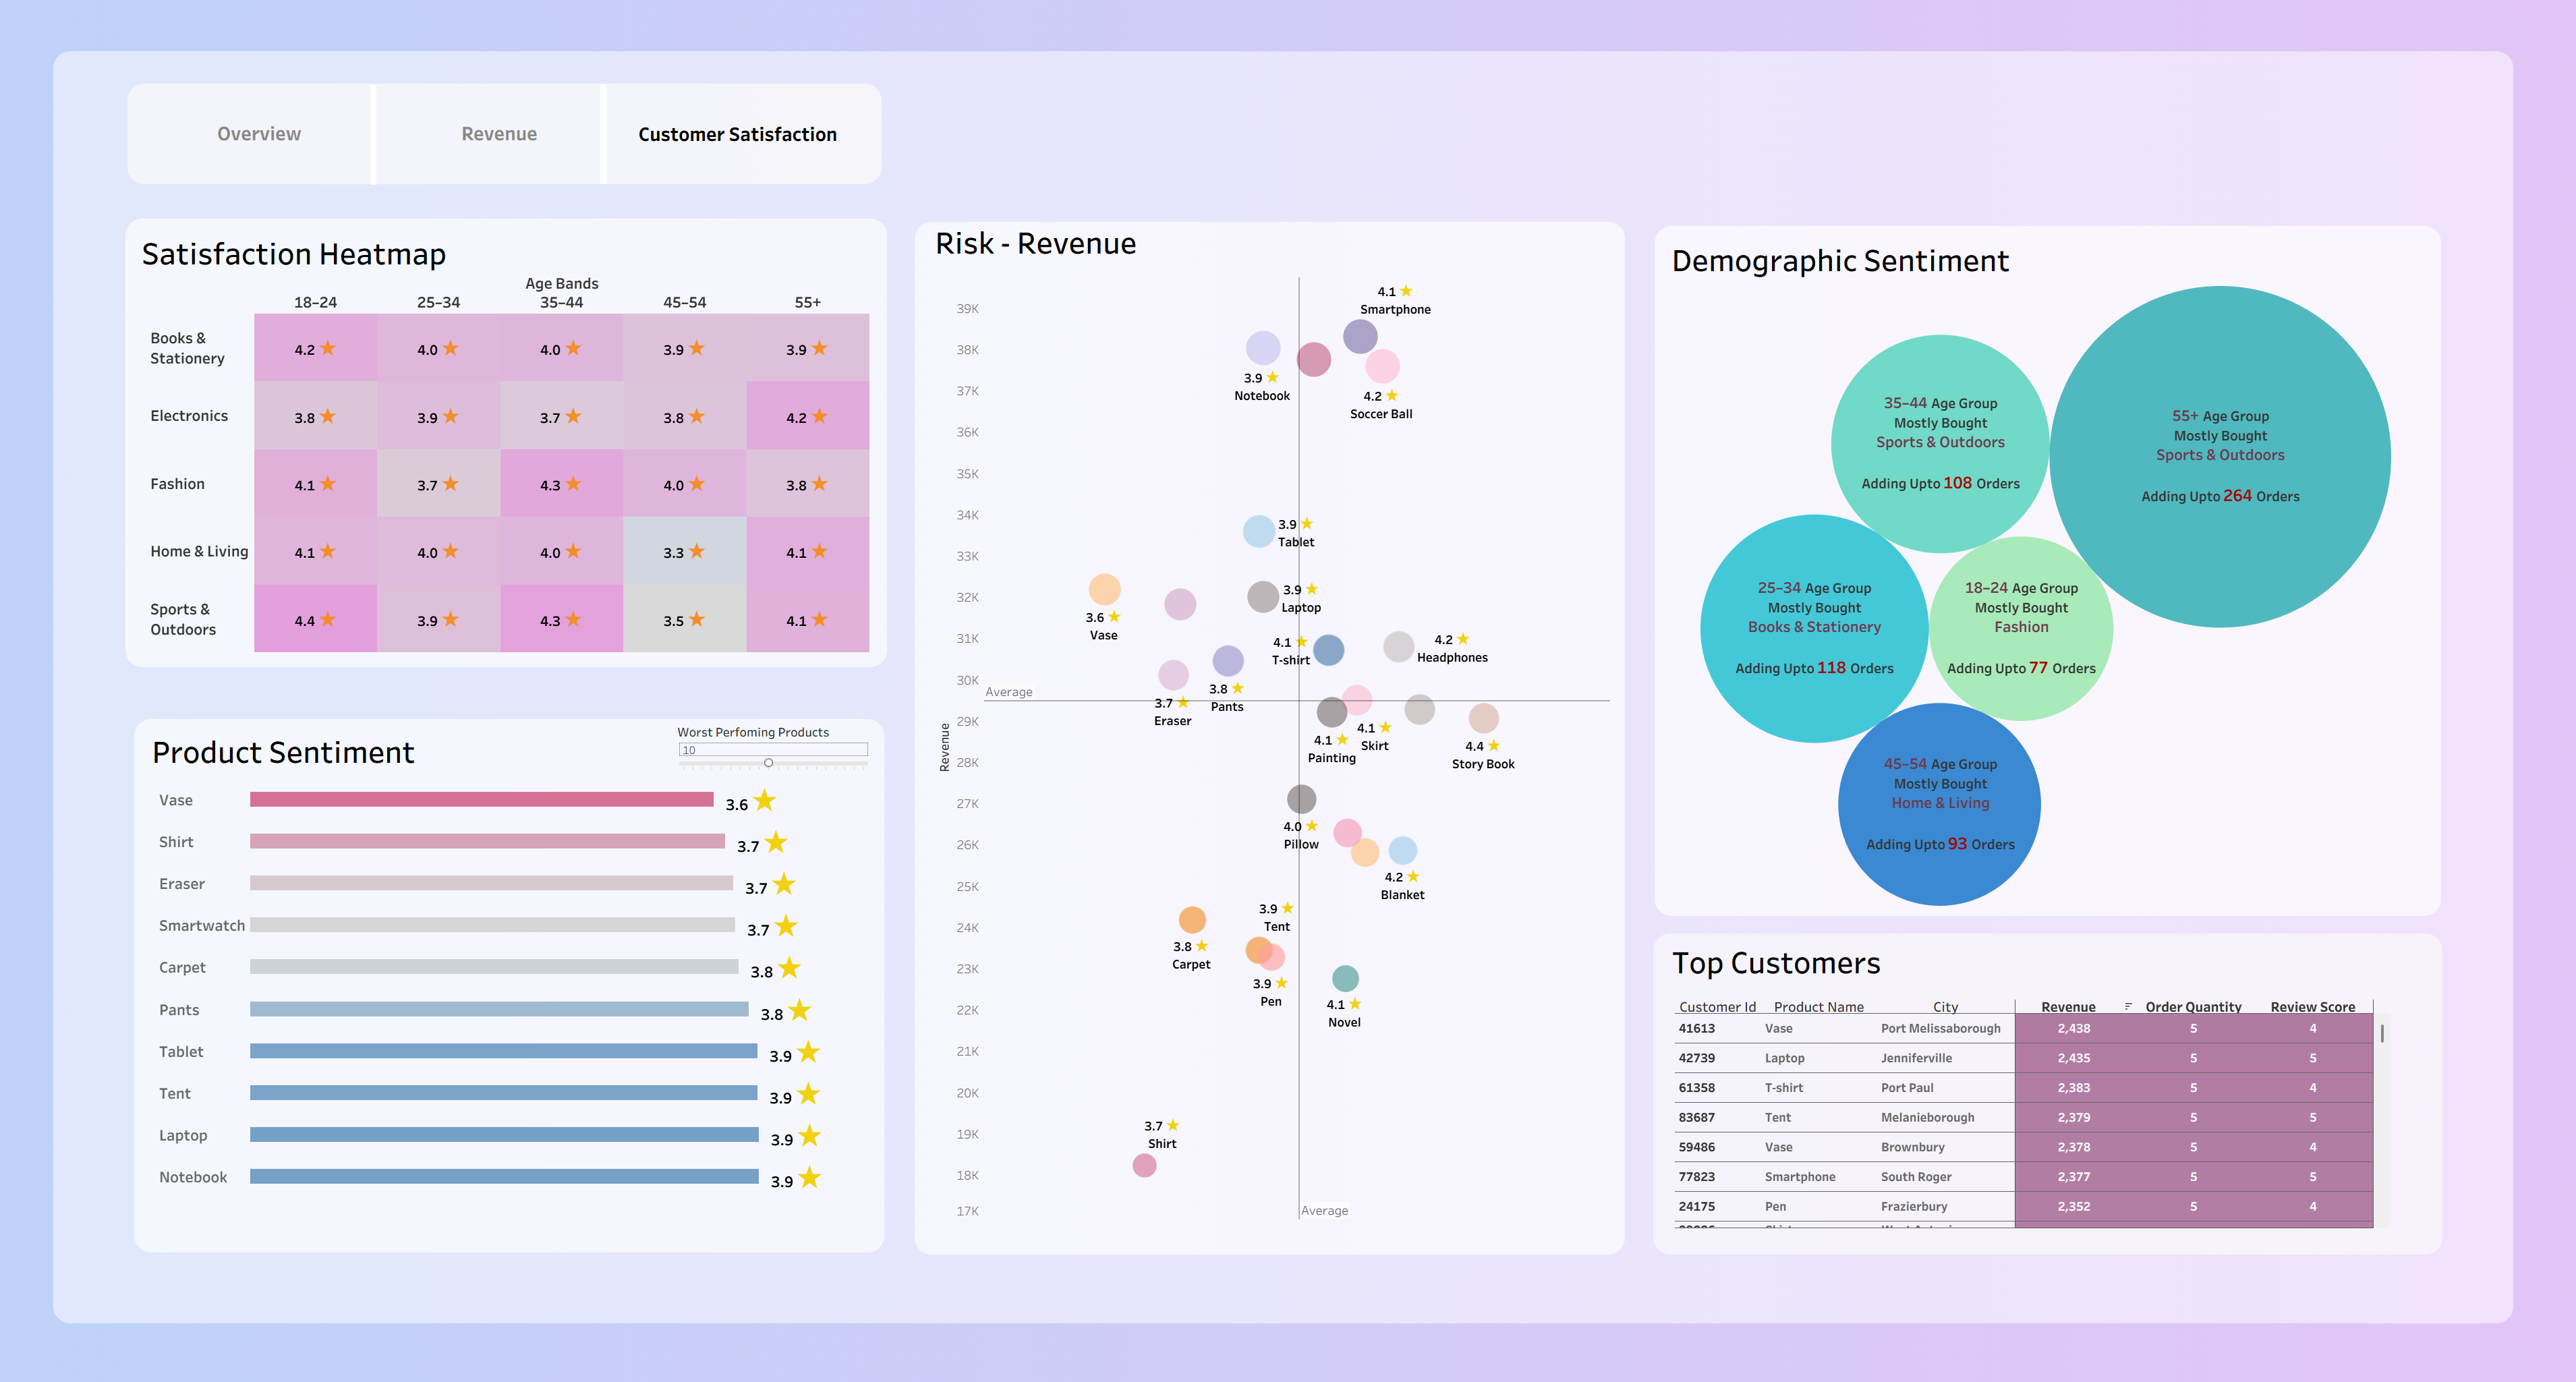

The dashboard page shown, as its layout file describes it:
{"tool":"tableau","page":{"name":"Dashboard 3","canvas":[3840,2160],"ordinal":2},"visuals":[{"type":"worksheet","title":"Blank Space for Dashboard 3","mark":"Automatic","box":[24,12.5,3807.3,2138.4]},{"type":"text","box":[549.2,125.2,8.7,155.9]},{"type":"text","box":[893.5,125.2,8.7,155.9]},{"type":"dashboard-object","box":[210,140,355,129]},{"type":"dashboard-object","box":[565,140,354,129]},{"type":"text","box":[919,140,354,129]},{"type":"text","box":[1377.3,350.5,460.9,80.8]},{"type":"text","box":[205.9,351.6,537.2,80.8]},{"type":"text","box":[2473.5,363,718.1,80.8]},{"type":"worksheet","title":"Ratings by Age band","mark":"Square","rows":["category_name"],"cols":["Calculation_0680360810037251"],"box":[216.8,430.2,1072.2,586.1]},{"type":"worksheet","title":"Risk Revenue Scatterplot","mark":"Automatic","rows":["Calculation_1162496623210496"],"cols":["review_score"],"box":[1373,432.5,1008,1522.7]},{"type":"worksheet","title":"Order Amount by Age band","mark":"Circle","box":[2473.5,446.1,1132.2,966.2]},{"type":"parameter","param":"[Parameters].[Parameter 5]","box":[1003.6,1126.7,285.5,85.4]},{"type":"text","box":[221.2,1128.9,460.9,80.8]},{"type":"worksheet","title":"Worst performing Products","mark":"Automatic","rows":["product_name"],"cols":["review_score"],"box":[229.9,1213.1,1008,735.2]},{"type":"text","box":[2474.6,1477.2,460.9,80.8]},{"type":"worksheet","title":"Top Customers","mark":"Square","rows":["customer_id","product_name","city"],"box":[2483.4,1561.4,1132.2,402.9]}]}

Visuals, with their boxes on the page's 3840x2160 design canvas (x1, y1, x2, y2). These are canvas units, not pixel positions in the 2576x1382 screenshot, which may show the page scaled, cropped or inside an application window:
"Blank Space for Dashboard 3" worksheet: 24 12 3831 2151
text: 549 125 558 281
text: 894 125 902 281
dashboard-object: 210 140 565 269
dashboard-object: 565 140 919 269
text: 919 140 1273 269
text: 1377 350 1838 431
text: 206 352 743 432
text: 2474 363 3192 444
"Ratings by Age band" worksheet (Square marks): 217 430 1289 1016
"Risk Revenue Scatterplot" worksheet: 1373 432 2381 1955
"Order Amount by Age band" worksheet (Circle marks): 2474 446 3606 1412
parameter: 1004 1127 1289 1212
text: 221 1129 682 1210
"Worst performing Products" worksheet: 230 1213 1238 1948
text: 2475 1477 2936 1558
"Top Customers" worksheet (Square marks): 2483 1561 3616 1964
